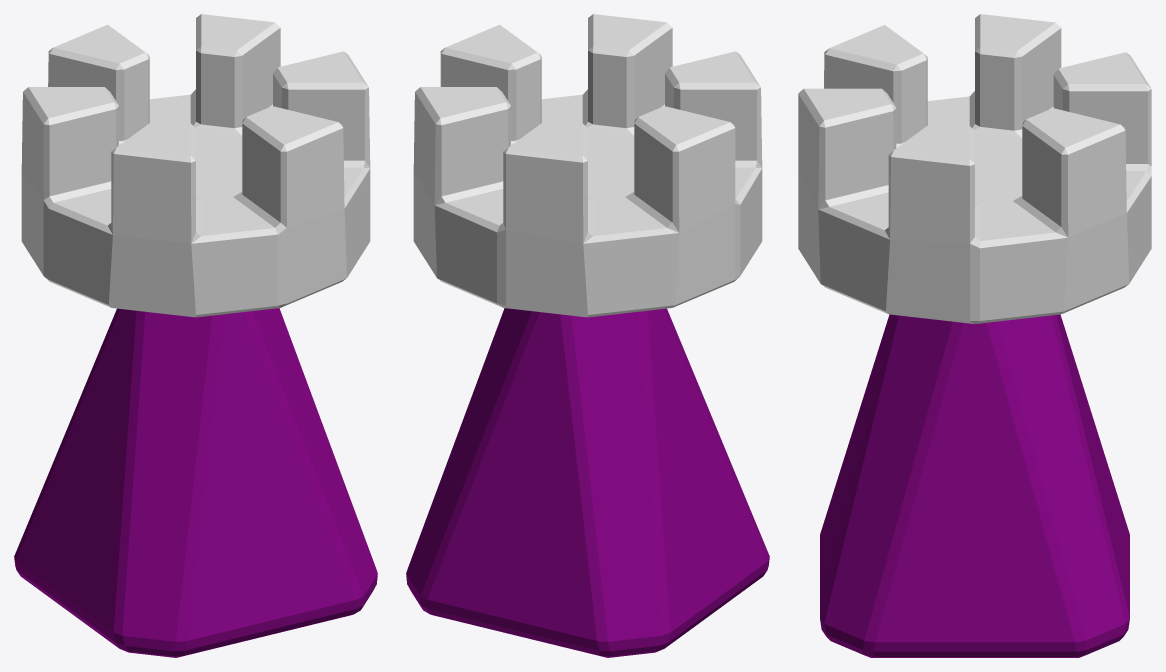
Rendered from rook.glb.
The picture shows the model from 3 angles, left to right: view 1: azimuth 30°, elevation 25°; view 2: azimuth 150°, elevation 25°; view 3: azimuth 270°, elevation 25°; orthographic projection. The views are drawn at different scales.
Visible parts, largest first — view 1: Cube, Circle; view 2: Cube, Circle; view 3: Circle, Cube.
Boxes of the visible parts, left/top/right/bottom form: Cube: left=14, top=308, right=377, bottom=657; Circle: left=21, top=14, right=370, bottom=317; Cube: left=406, top=308, right=769, bottom=657; Circle: left=413, top=14, right=762, bottom=317; Circle: left=798, top=14, right=1151, bottom=323; Cube: left=820, top=314, right=1129, bottom=657.
Size of the model in its own units: 0.8752 by 1.4 by 0.8752.
